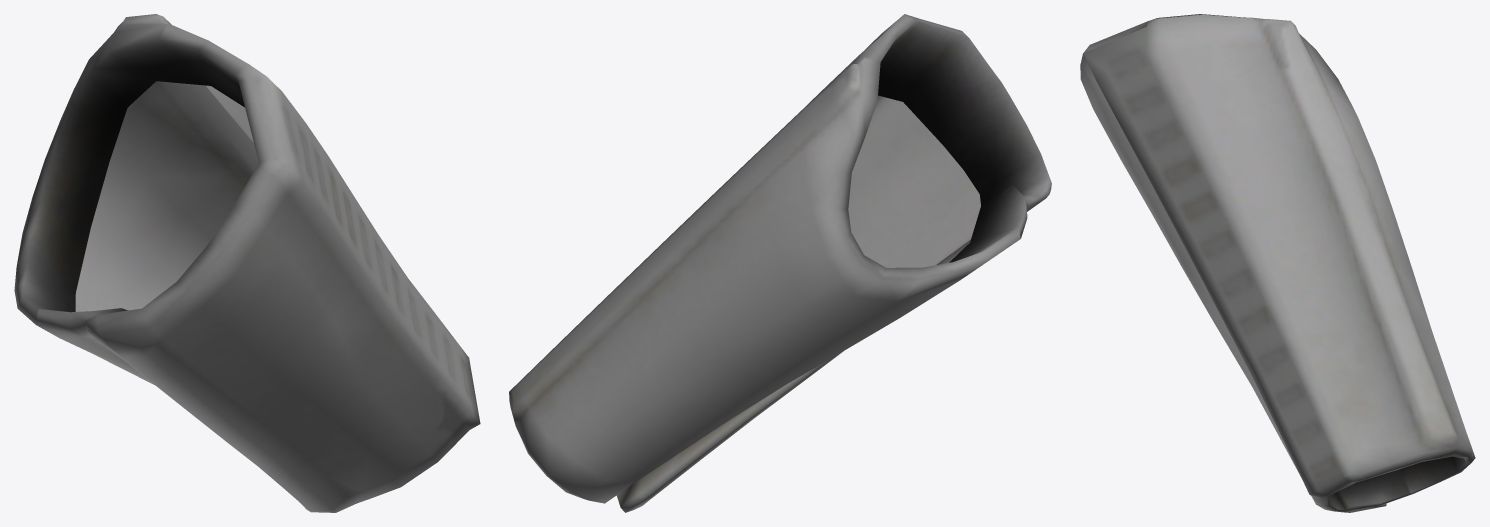
The model's file is Stormtrooper_LowerArmR.fbx.
The picture shows the model from 3 angles, left to right: view 1: azimuth 30°, elevation 25°; view 2: azimuth 150°, elevation 25°; view 3: azimuth 270°, elevation 25°; orthographic projection. The views are drawn at different scales.
Parts seen in each view (by area): view 1: LowerArmR; view 2: LowerArmR; view 3: LowerArmR.
Part boxes in pixels (bbox=[...]): LowerArmR: bbox=[14, 14, 480, 512]; LowerArmR: bbox=[509, 14, 1051, 512]; LowerArmR: bbox=[1080, 14, 1475, 512].
Size of the model in its own units: 0.2632 by 0.2798 by 0.2396.
1 material, 1 textured.
